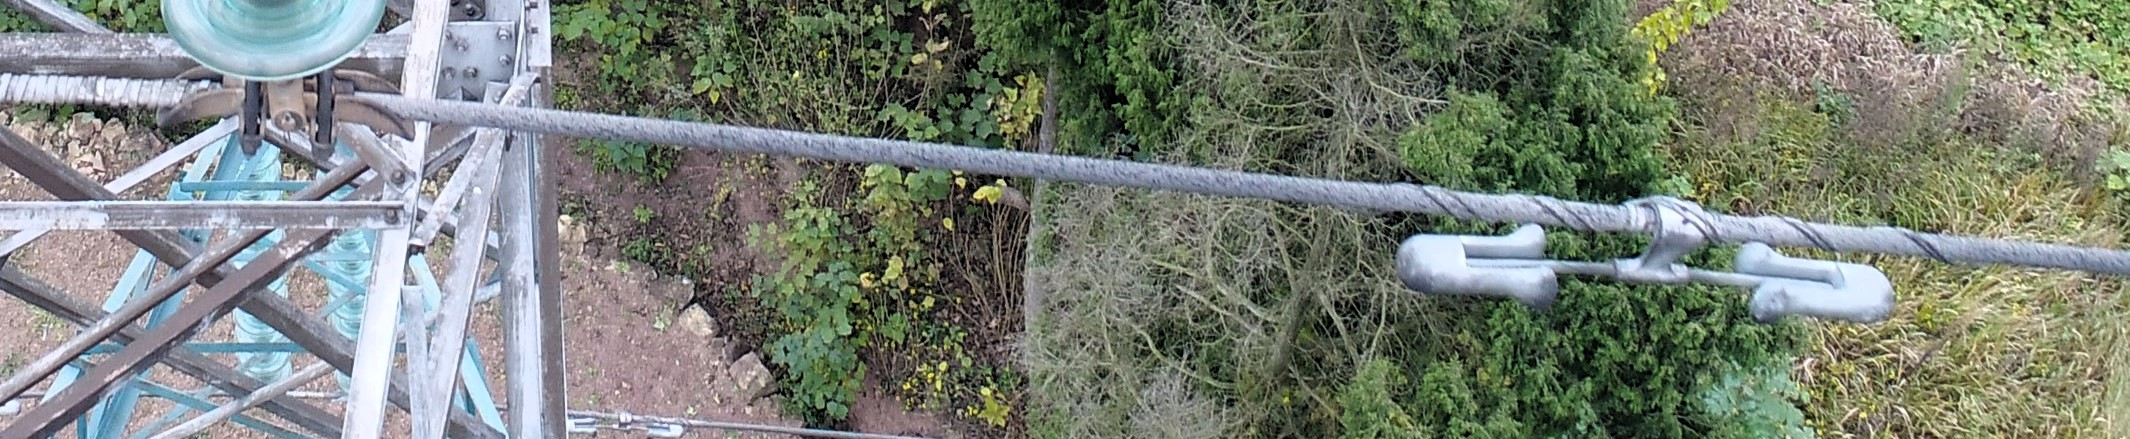Shockproof hammer: (1357, 171, 1907, 334)
